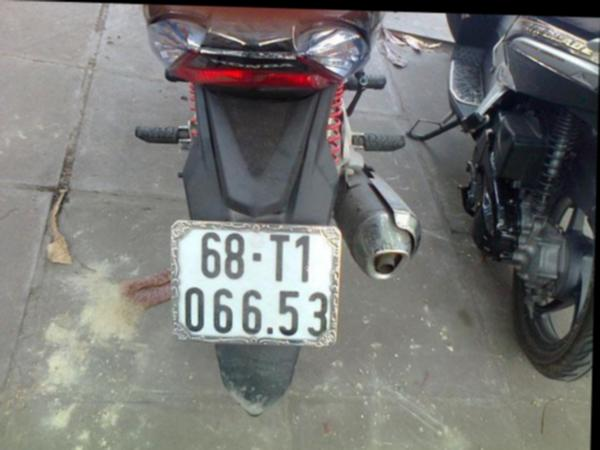License_Plate: (175, 223, 333, 343)
